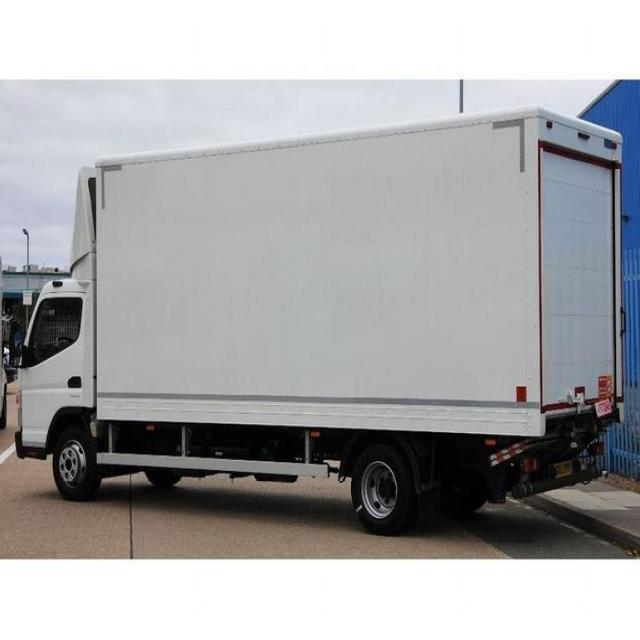truck: (15, 105, 626, 527)
